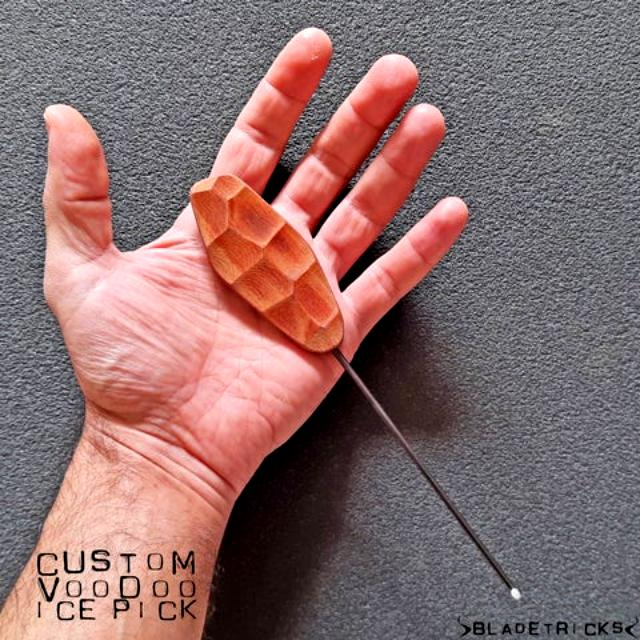ice pick: (189, 175, 521, 603)
